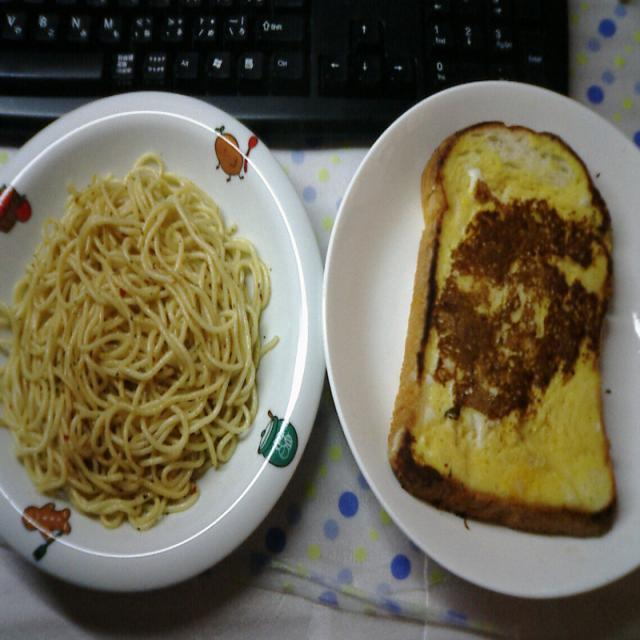Pasta: (1, 172, 273, 502)
